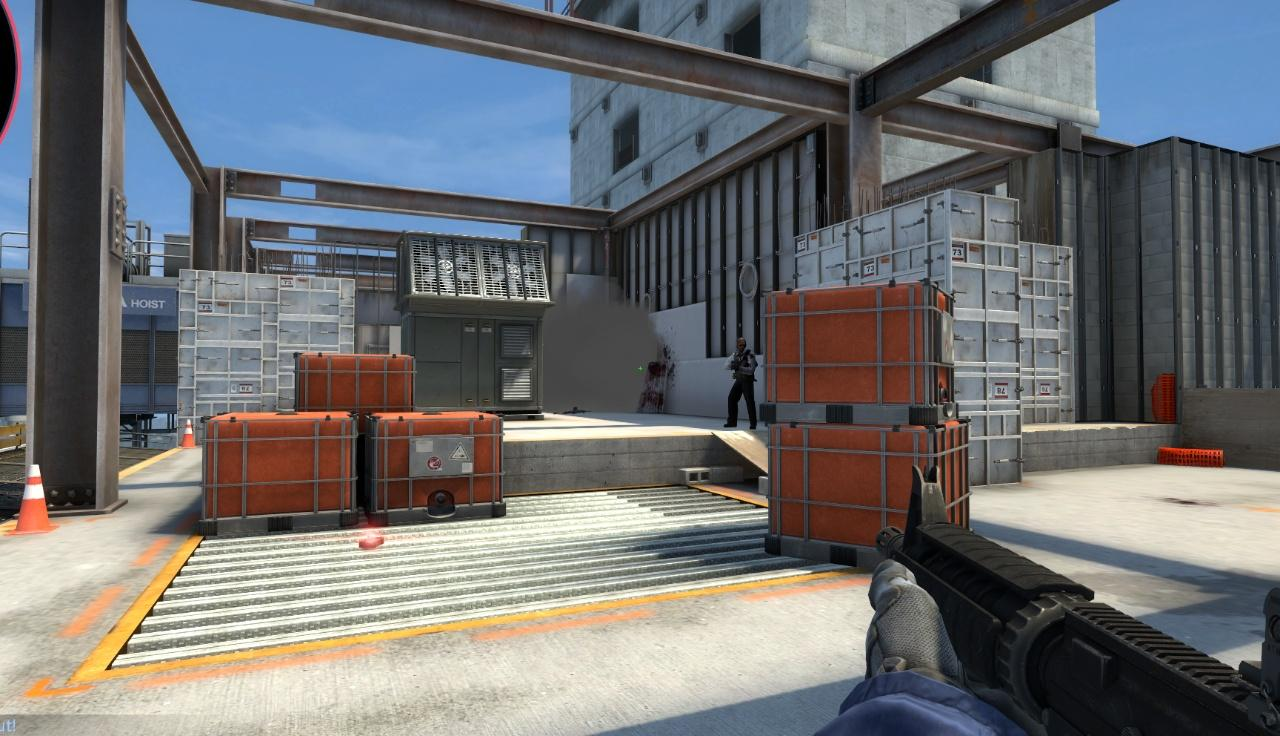rifle: (854, 475, 1280, 733)
tt: (722, 337, 758, 429)
tthead: (736, 337, 747, 352)
